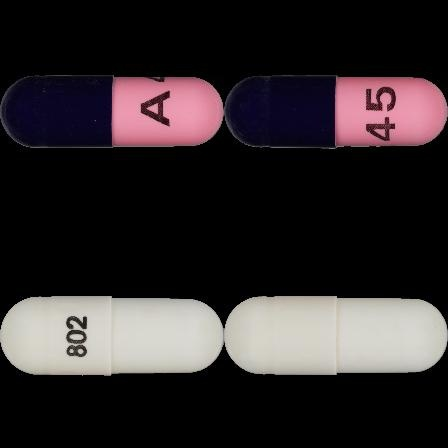55700-007: (0, 0, 224, 224)
